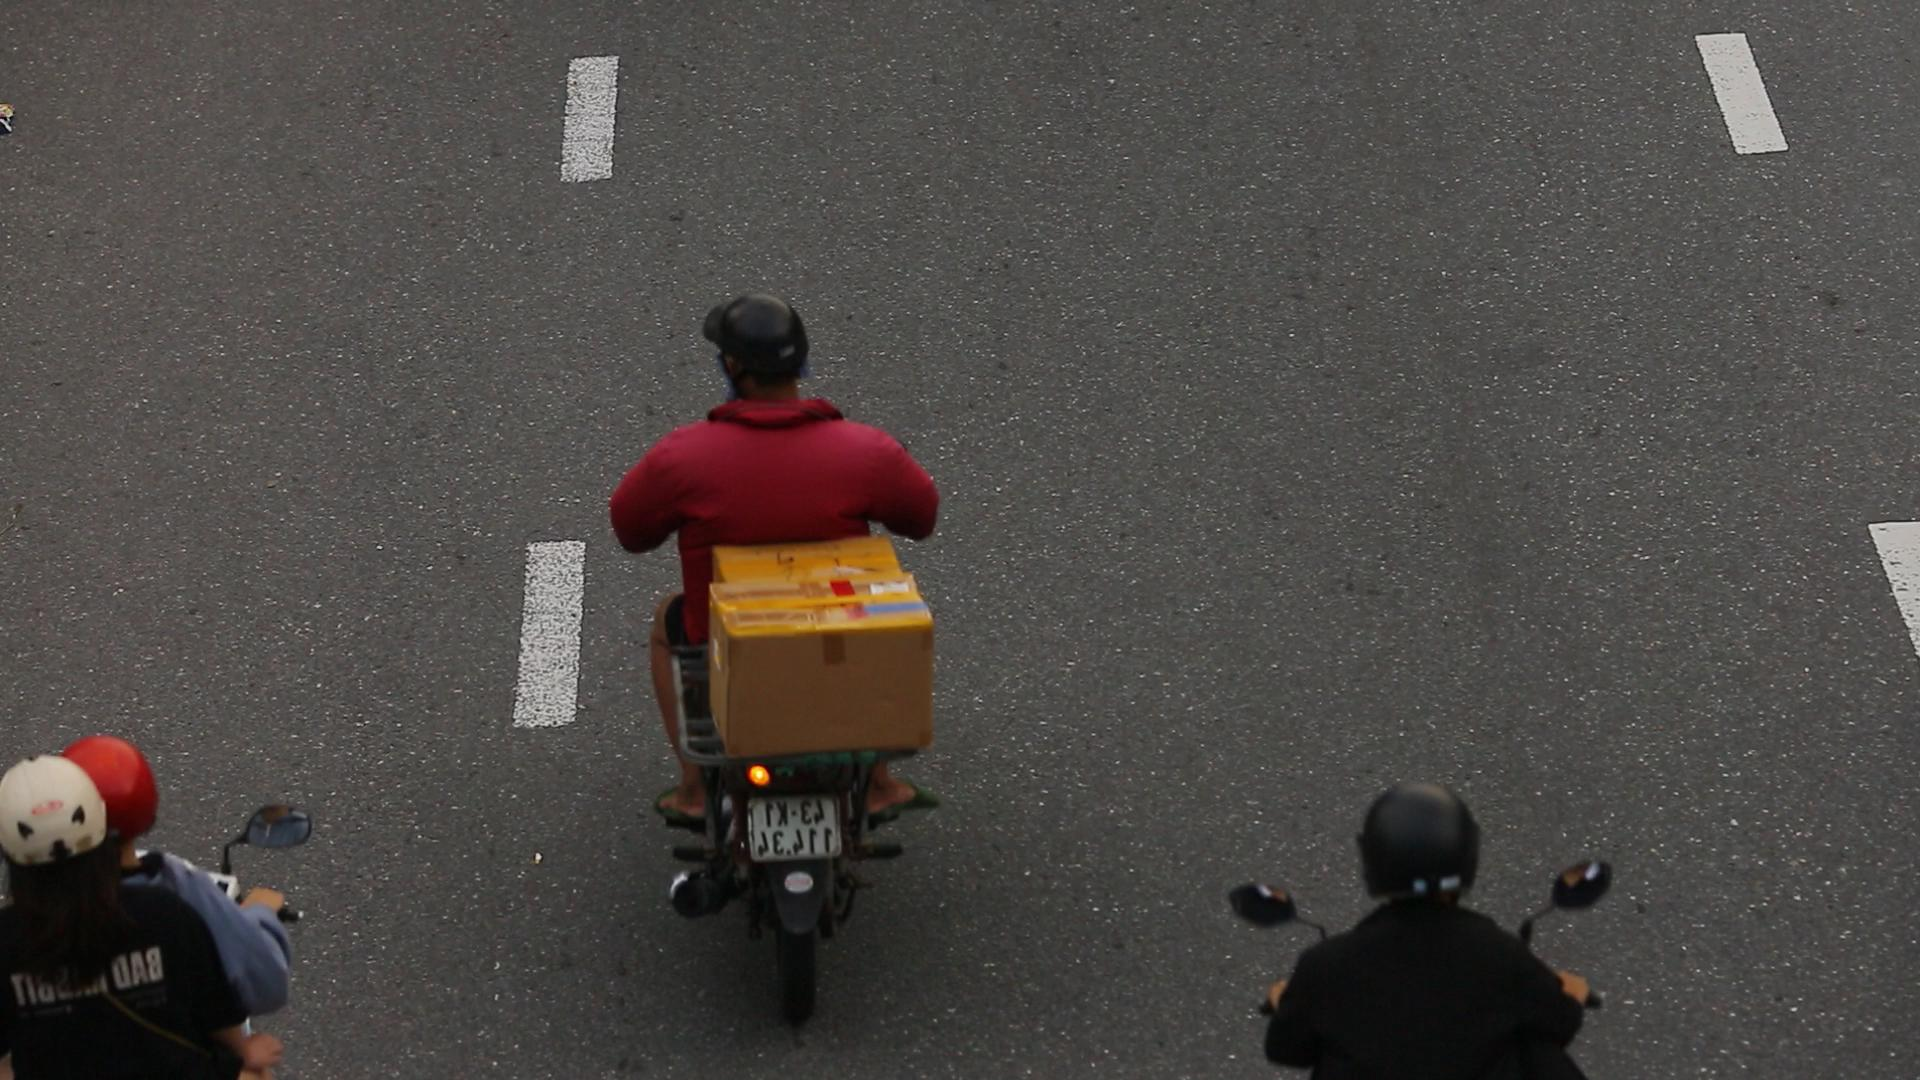motobike: (613, 289, 956, 1022)
